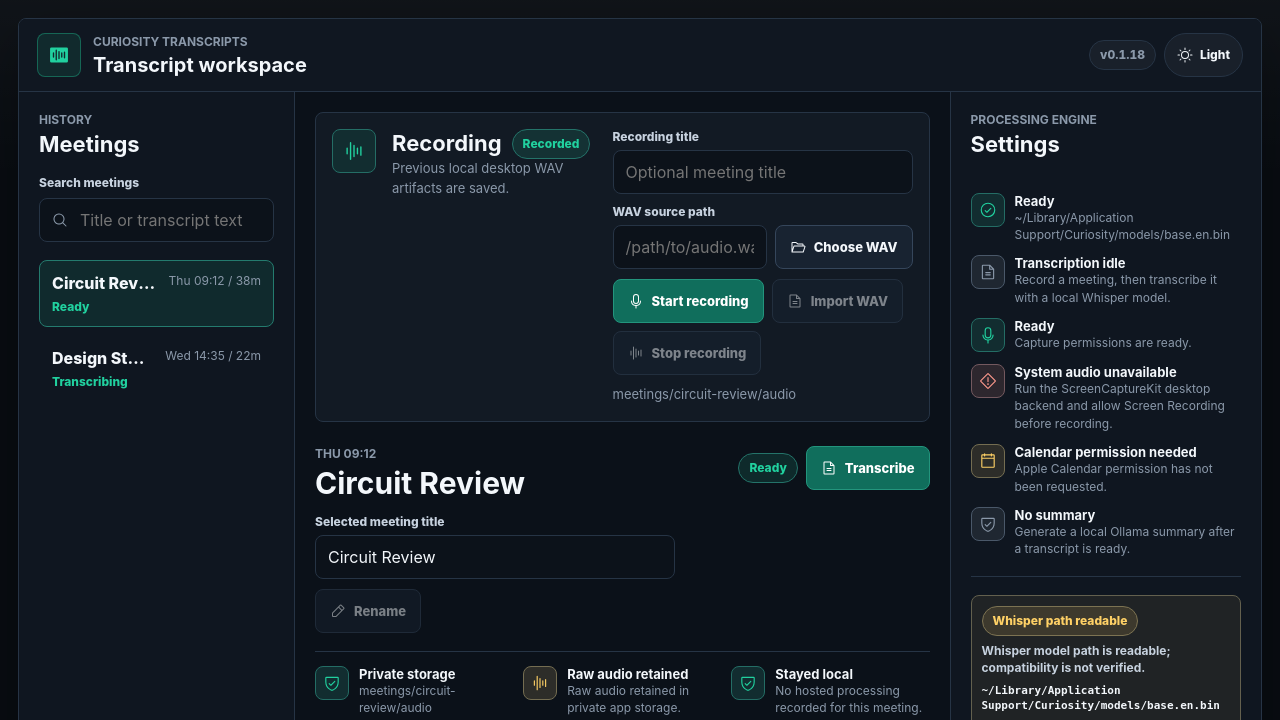
Test case: desktop workspace shell › starts desktop recording with the optional title and replaces the snapshot
This screenshot has width=1280, height=720.
Step 1. Type "MVP sync" into the field labelled "Recording title" → (762, 172), box [612,150,912,194]
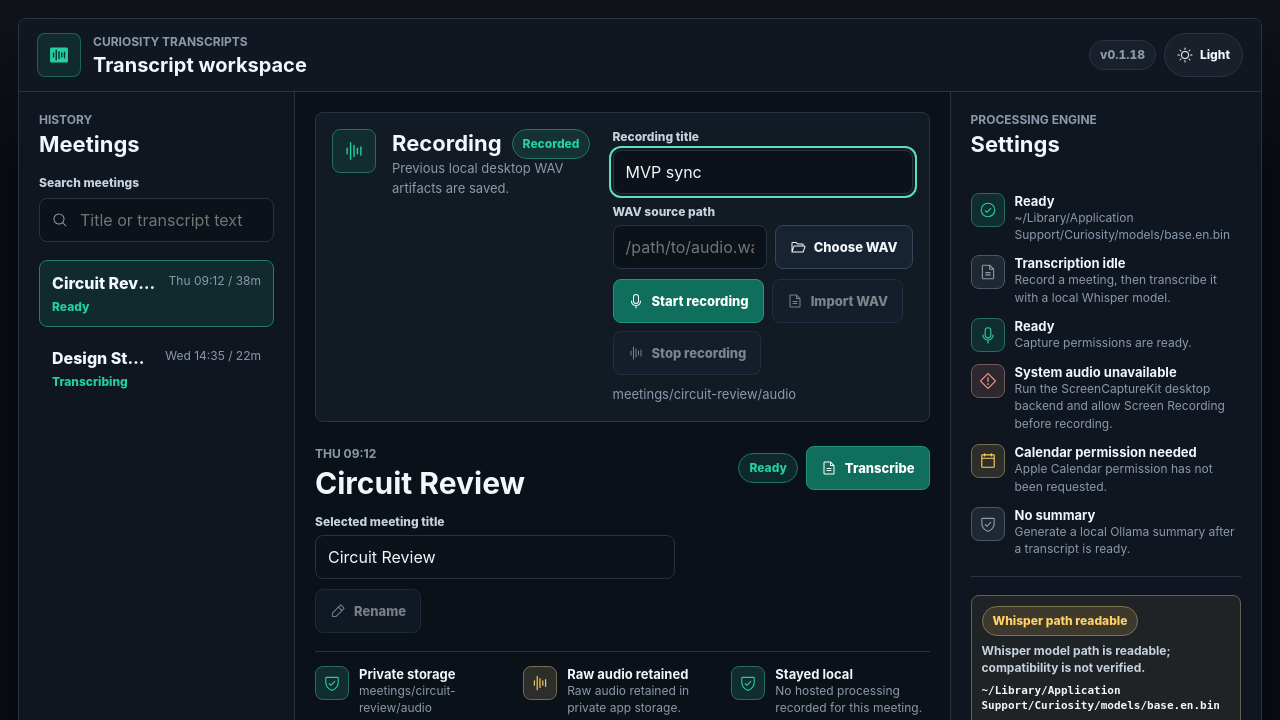
Step 2. Click the button "Start recording" → (688, 301), box [612,279,764,323]
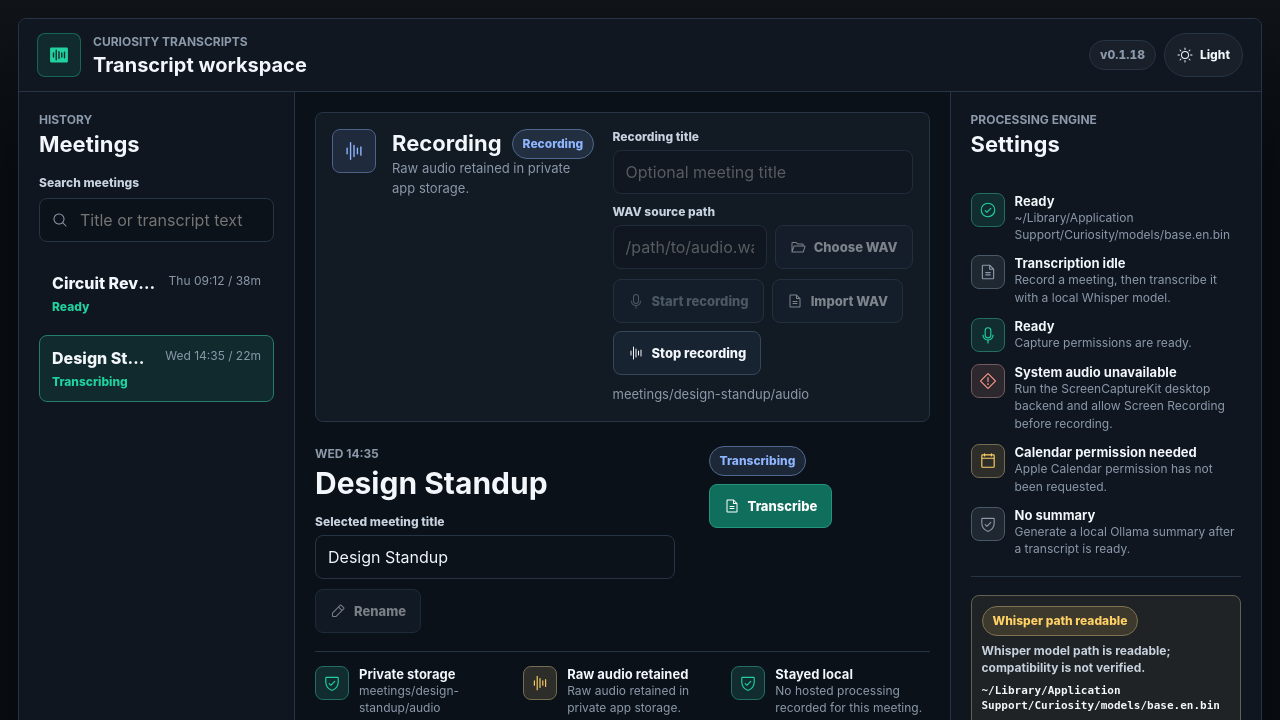
expect the heading "Recording" is shown: met, box [392,130,502,158]
expect the heading "Design Standup" is shown: met, box [315,464,548,500]
expect the text "meetings/design-standup/audio" below "WAV source path" is shown: met, box [612,386,809,402]
